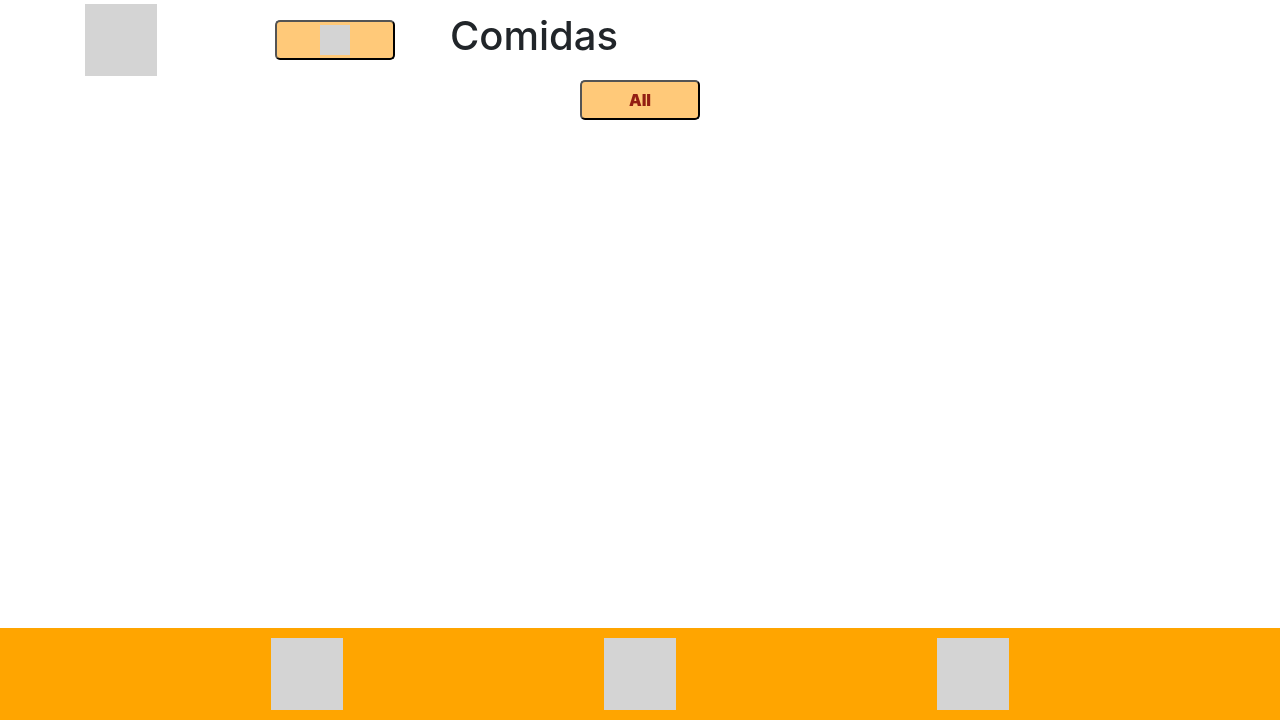
Testando o SearchBar › Verifica se o SearchBar está na página de comidas após ser acionado pelo Header
The image size is (1280, 720).
Click the button with test id "search-top-btn" at (335, 40), box x1=275 y1=20 x2=395 y2=60
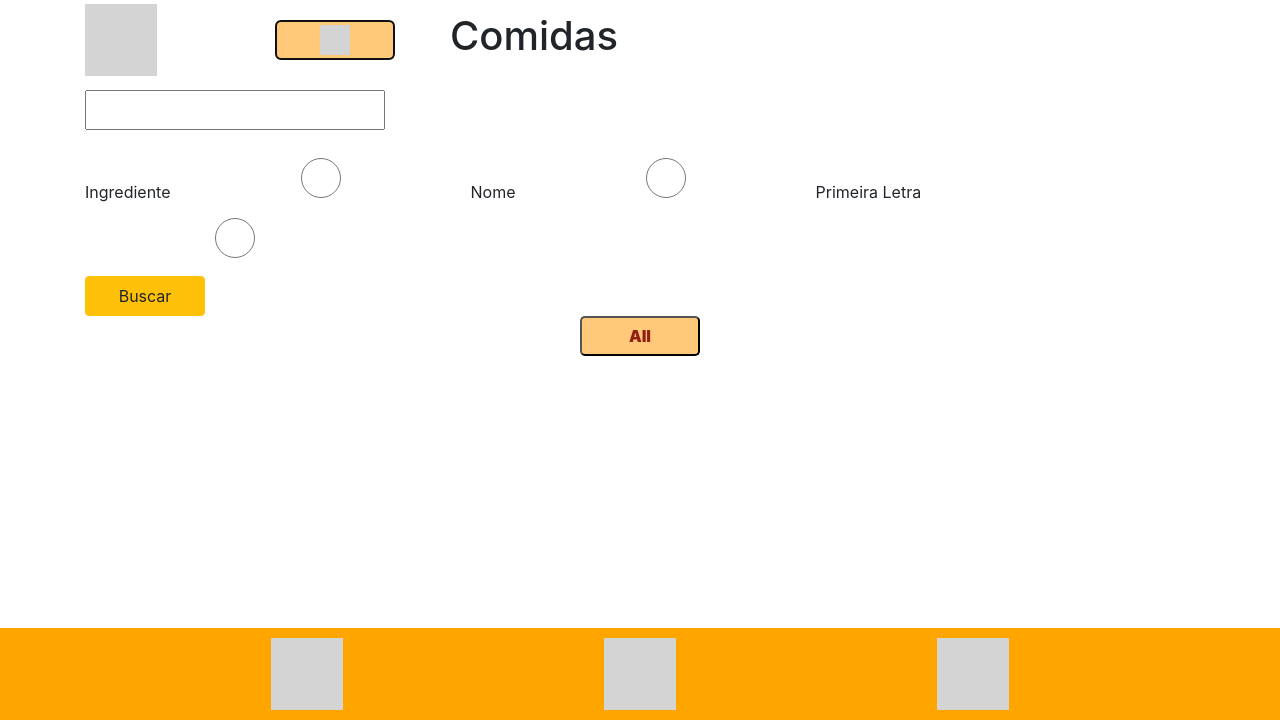
expect the field with test id "search-input" is shown: met, box x1=85 y1=90 x2=385 y2=130
expect the radio button with test id "ingredient-search-radio" is shown: met, box x1=170 y1=158 x2=470 y2=198
expect the radio button with test id "first-letter-search-radio" is shown: met, box x1=85 y1=218 x2=385 y2=258
